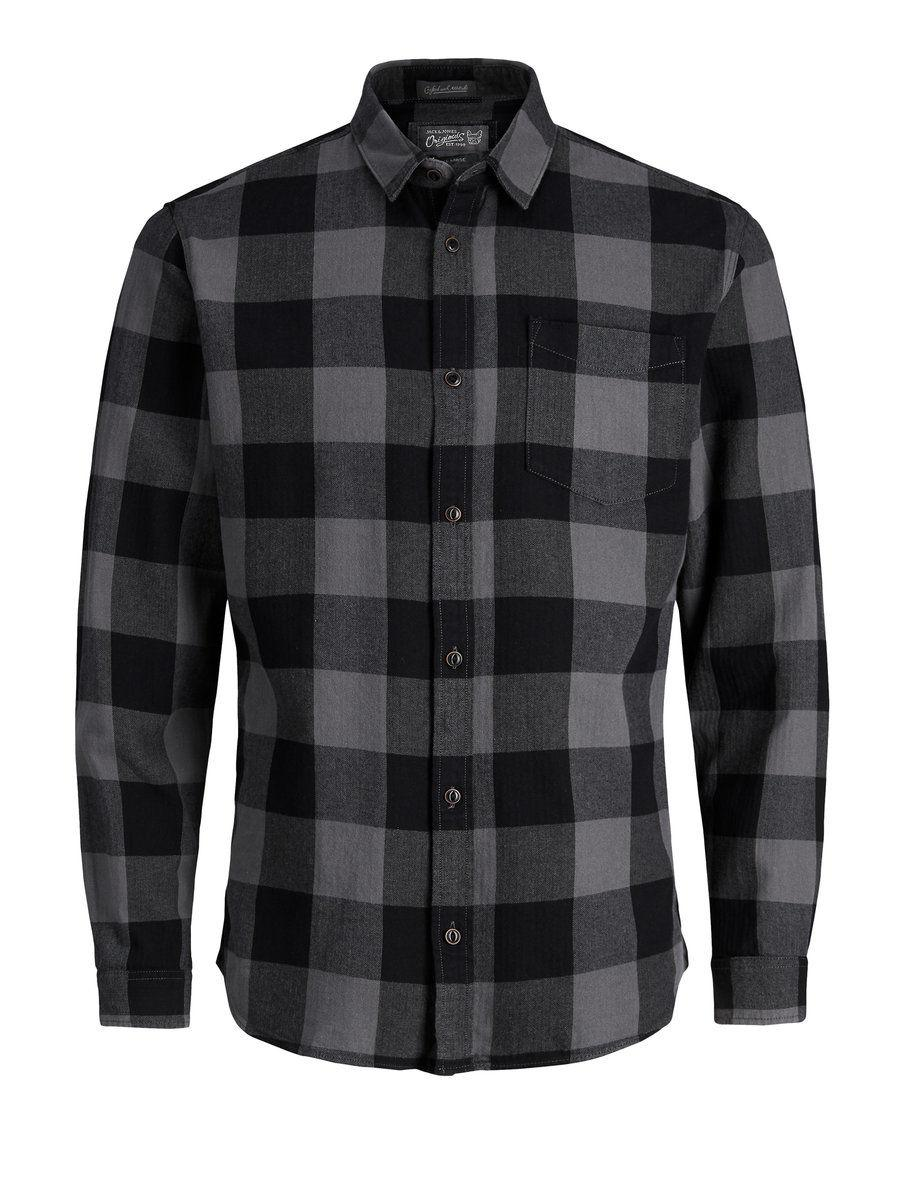teeshirt: (62, 51, 858, 1074)
